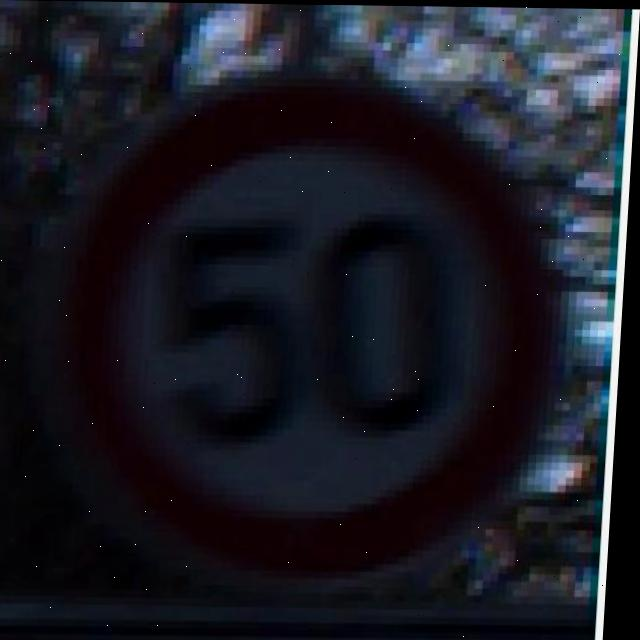Speed limit 50: (47, 71, 572, 580)
